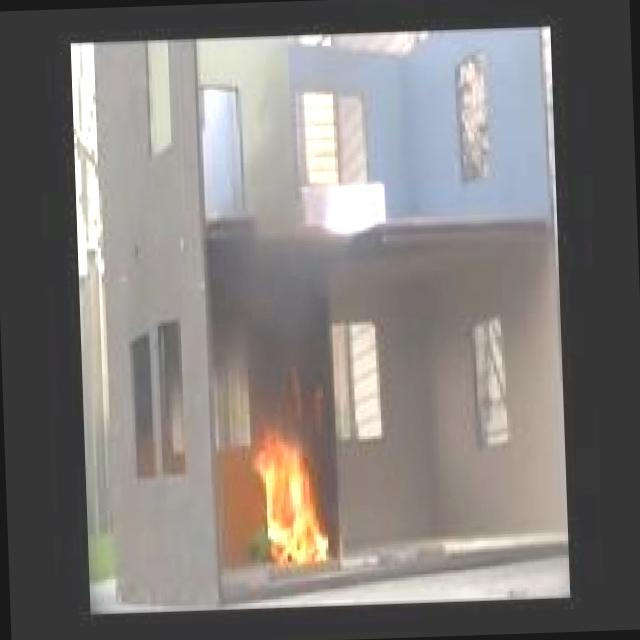fire: (232, 404, 346, 594)
